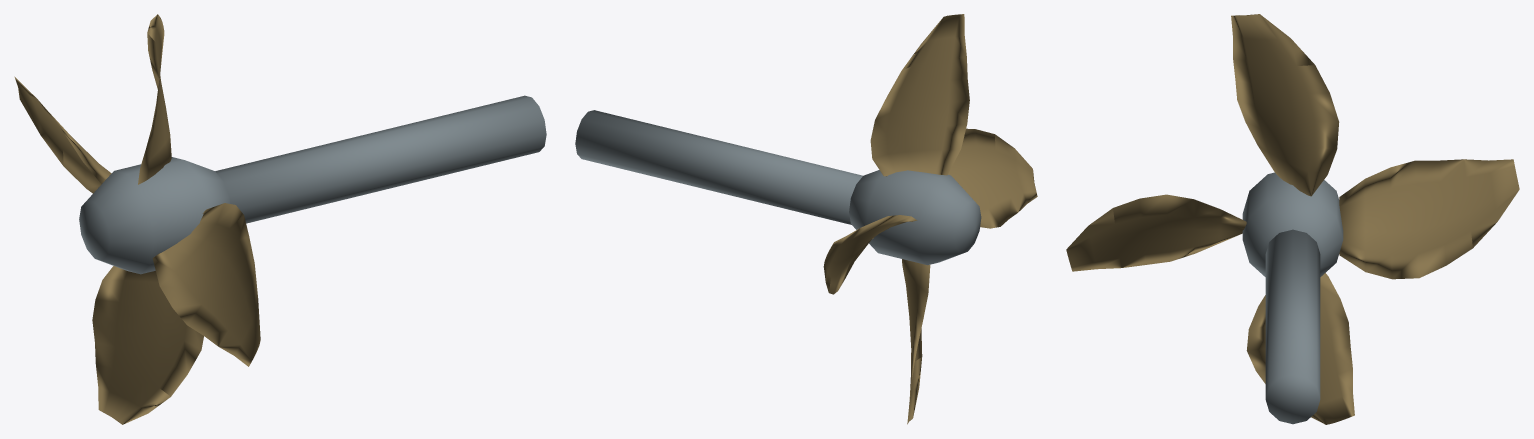
The model's file is PROP_T03_MULTIBLADE_LOD2.fbx.
The picture shows the model from 3 angles, left to right: view 1: azimuth 30°, elevation 25°; view 2: azimuth 150°, elevation 25°; view 3: azimuth 270°, elevation 25°; orthographic projection. The views are drawn at different scales.
Parts seen in each view (by area): view 1: PROP_T03_MULTIBLADE_LOD2_Shaft.001, PROP_T03_MULTIBLADE_LOD2_Blade_03.001, PROP_T03_MULTIBLADE_LOD2_Blade_02.001, PROP_T03_MULTIBLADE_LOD2_Hub.001, PROP_T03_MULTIBLADE_LOD2_Blade_00.001, PROP_T03_MULTIBLADE_LOD2_Blade_01.001; view 2: PROP_T03_MULTIBLADE_LOD2_Shaft.001, PROP_T03_MULTIBLADE_LOD2_Blade_01.001, PROP_T03_MULTIBLADE_LOD2_Hub.001, PROP_T03_MULTIBLADE_LOD2_Blade_02.001, PROP_T03_MULTIBLADE_LOD2_Blade_03.001, PROP_T03_MULTIBLADE_LOD2_Blade_00.001; view 3: PROP_T03_MULTIBLADE_LOD2_Blade_00.001, PROP_T03_MULTIBLADE_LOD2_Blade_01.001, PROP_T03_MULTIBLADE_LOD2_Shaft.001, PROP_T03_MULTIBLADE_LOD2_Blade_02.001, PROP_T03_MULTIBLADE_LOD2_Hub.001, PROP_T03_MULTIBLADE_LOD2_Blade_03.001.
Part boxes in pixels (x1,y1,x2,y2): PROP_T03_MULTIBLADE_LOD2_Shaft.001: (215, 95, 546, 223); PROP_T03_MULTIBLADE_LOD2_Blade_03.001: (92, 266, 203, 424); PROP_T03_MULTIBLADE_LOD2_Blade_02.001: (152, 203, 260, 366); PROP_T03_MULTIBLADE_LOD2_Hub.001: (79, 157, 230, 274); PROP_T03_MULTIBLADE_LOD2_Blade_00.001: (14, 76, 111, 193); PROP_T03_MULTIBLADE_LOD2_Blade_01.001: (138, 14, 171, 184); PROP_T03_MULTIBLADE_LOD2_Shaft.001: (575, 110, 862, 224); PROP_T03_MULTIBLADE_LOD2_Blade_01.001: (870, 14, 969, 176); PROP_T03_MULTIBLADE_LOD2_Hub.001: (849, 170, 981, 265); PROP_T03_MULTIBLADE_LOD2_Blade_02.001: (948, 128, 1037, 228); PROP_T03_MULTIBLADE_LOD2_Blade_03.001: (902, 259, 930, 424); PROP_T03_MULTIBLADE_LOD2_Blade_00.001: (823, 215, 917, 294); PROP_T03_MULTIBLADE_LOD2_Blade_00.001: (1339, 159, 1519, 279); PROP_T03_MULTIBLADE_LOD2_Blade_01.001: (1231, 14, 1339, 196); PROP_T03_MULTIBLADE_LOD2_Shaft.001: (1265, 229, 1320, 424); PROP_T03_MULTIBLADE_LOD2_Blade_02.001: (1066, 194, 1246, 271); PROP_T03_MULTIBLADE_LOD2_Hub.001: (1242, 172, 1343, 276); PROP_T03_MULTIBLADE_LOD2_Blade_03.001: (1246, 273, 1354, 424).
Size of the model in its own units: 424 by 397 by 397.
